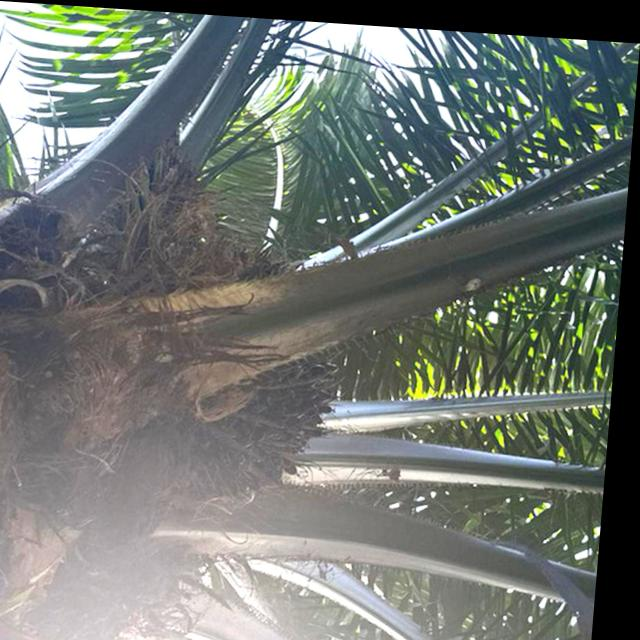ripe: (166, 319, 364, 515)
